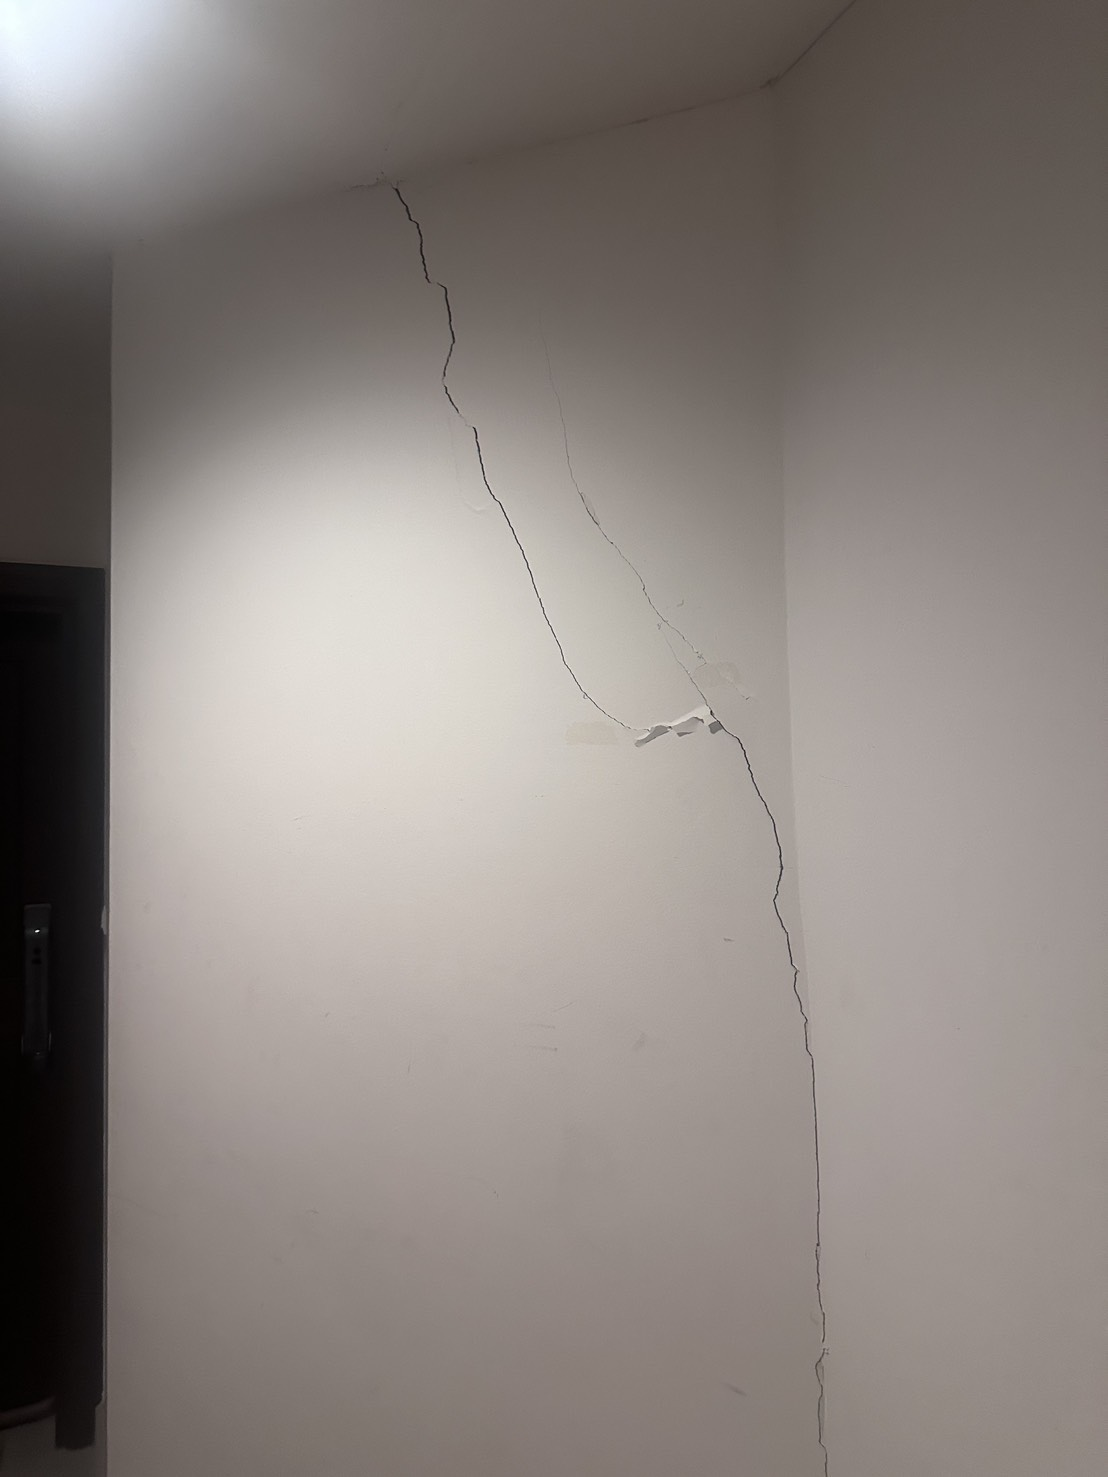Medium: (385, 203, 763, 787)
